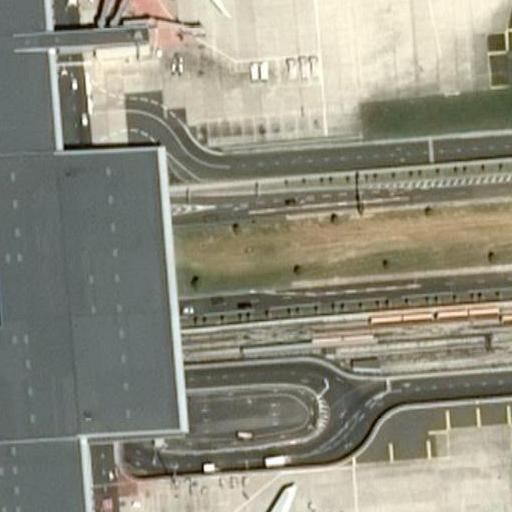Aircraft: (172, 473, 374, 512), (94, 0, 292, 23)
